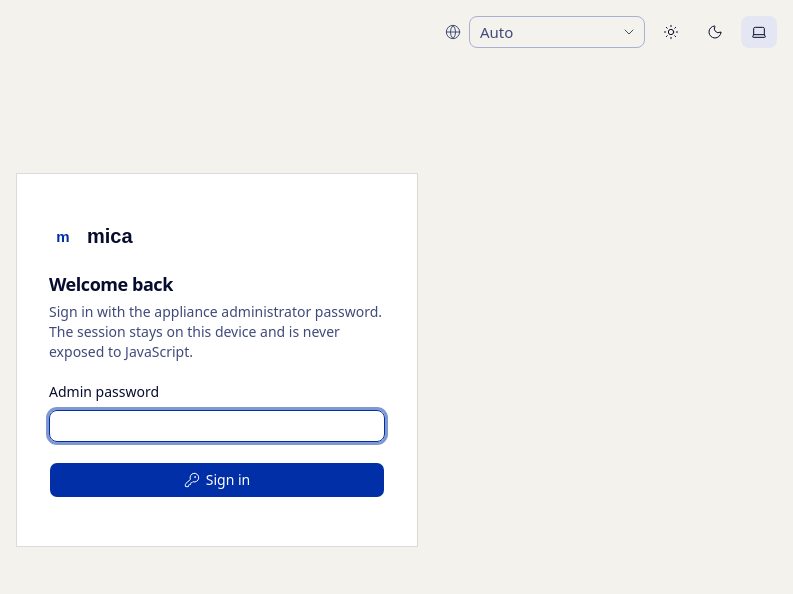
Test: sign-in › keeps a refused password on the form rather than in a toast
Type "wrong" into the password field labelled "Admin password" at point(217, 426), box [49,410,385,442]
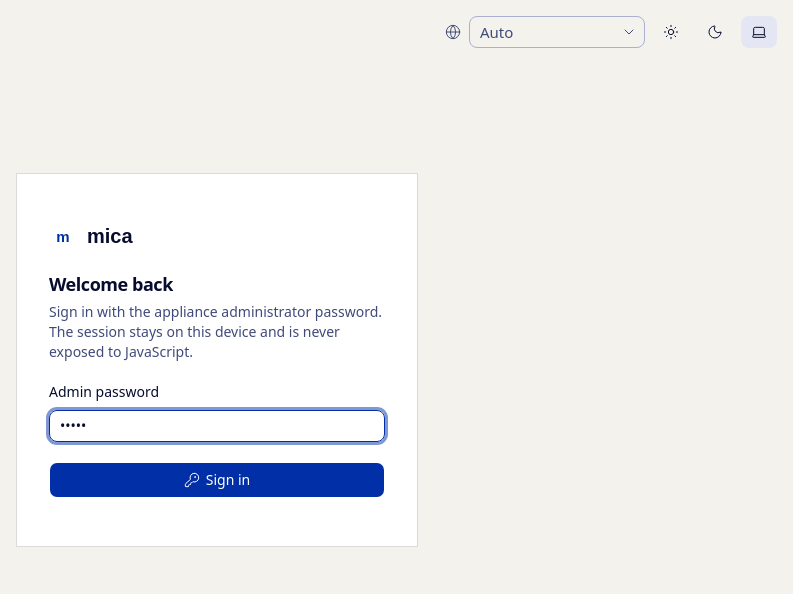
Click the button "Sign in" at point(217, 480), box [49,462,385,498]
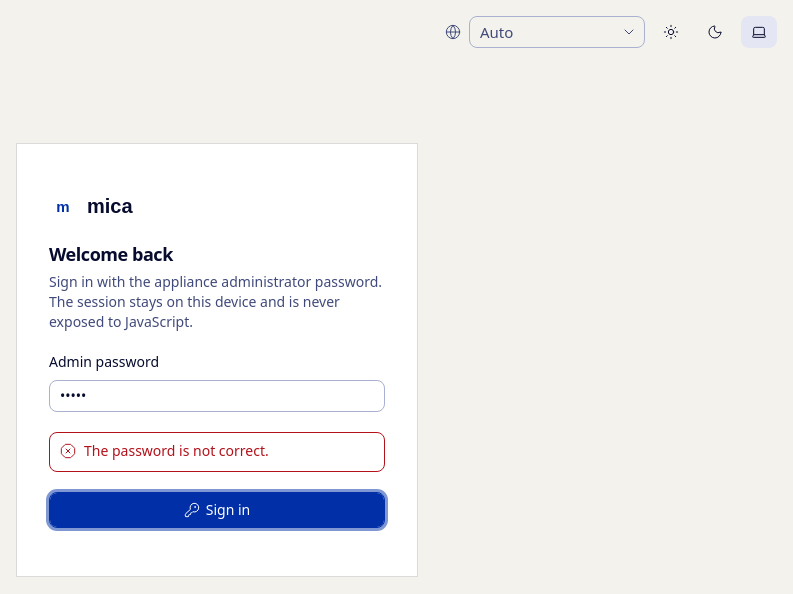
Expected: the text "The password is not correct." is shown, [84,441,269,460]
